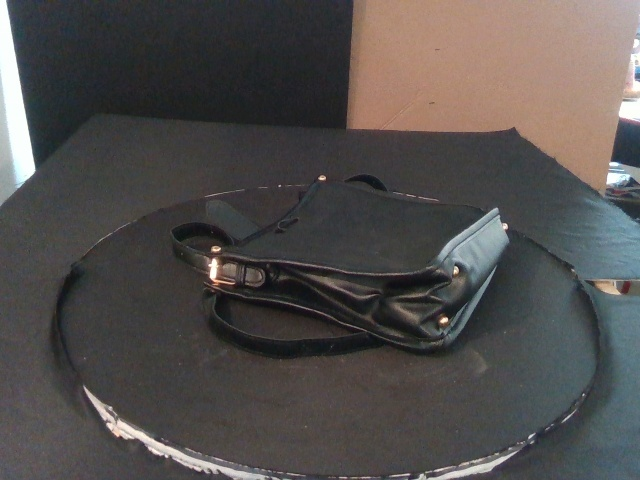bag: (204, 177, 512, 354)
